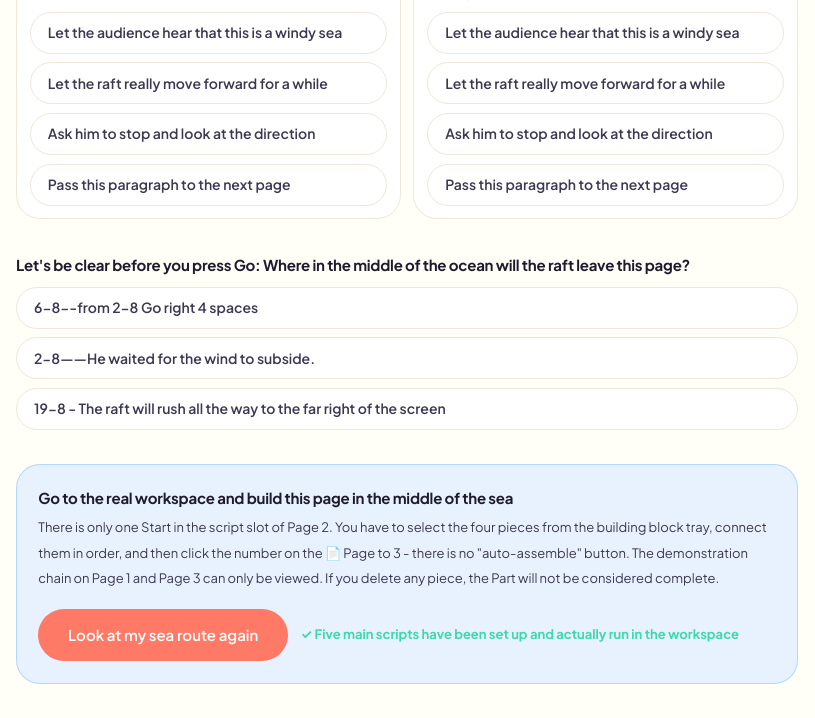
JourneyWestC3Part4Page — Let the center of the sea have both a story and an outlet › refuses the "he waits in place" exit prediction
(page scrolled)
Click the button "2-8——He waited for the wind to subside." at (175, 358), box [16,337,798,379]
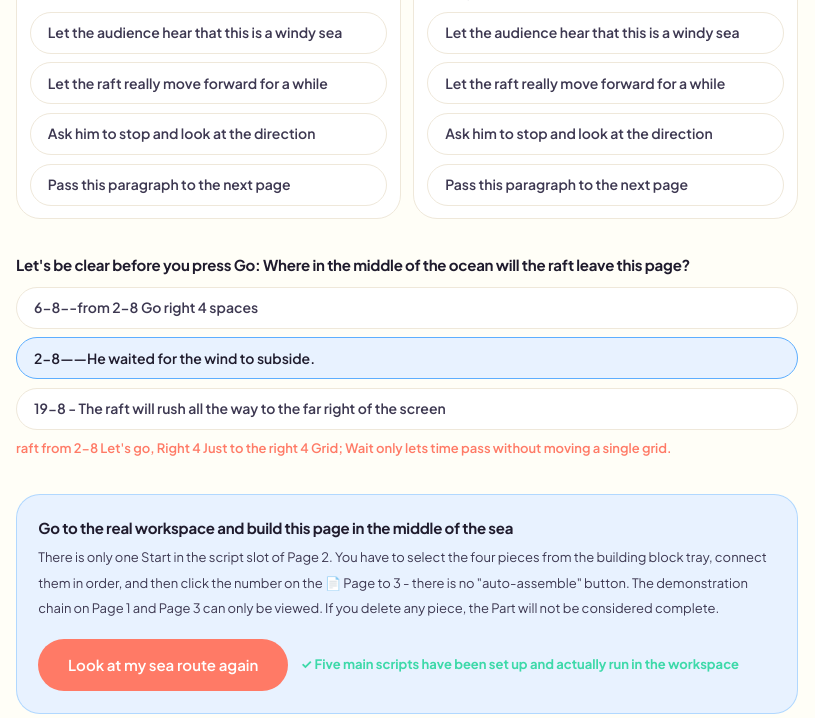
Now the message shows "without moving a single grid", box [16,440,672,456]
